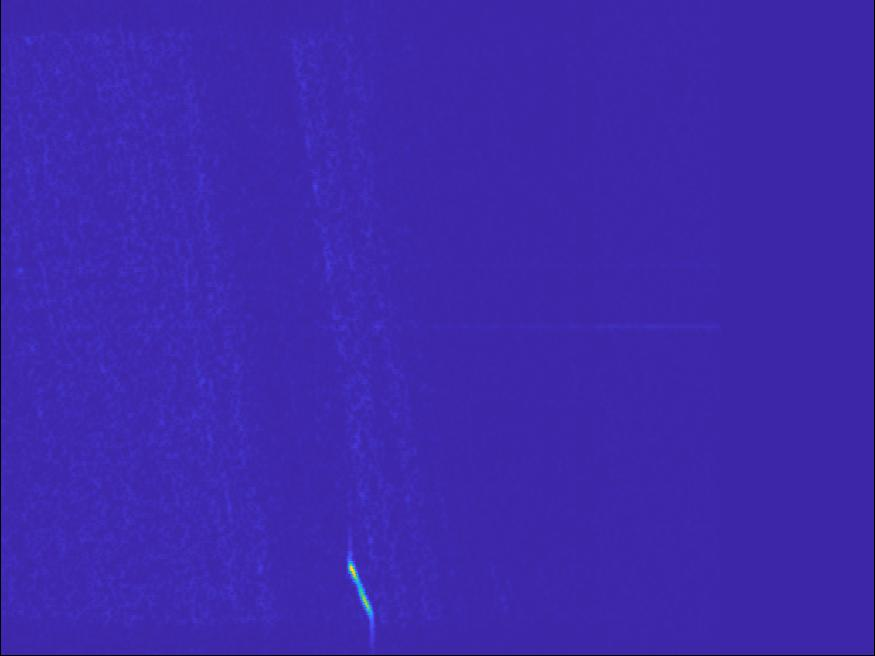Interference: (408, 290, 633, 362), (280, 455, 378, 496)
